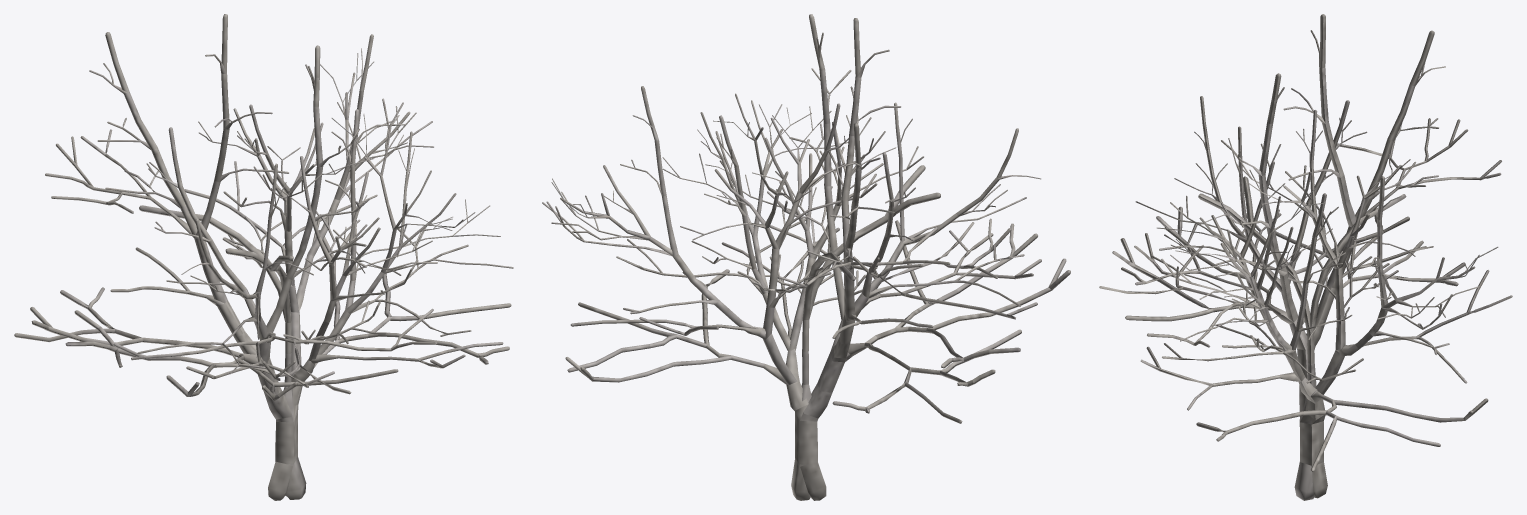
Rendered from deadtree1.obj.
3 views of the same model, side by side, from view 1: azimuth 30°, elevation 25°; view 2: azimuth 150°, elevation 25°; view 3: azimuth 270°, elevation 25° (orthographic). The views are drawn at different scales.
Visible parts, largest first — view 1: Walnut__; view 2: Walnut__; view 3: Walnut__.
Boxes of the visible parts, x1=… form: Walnut__: x1=14, y1=14, x2=513, y2=500; Walnut__: x1=542, y1=14, x2=1070, y2=500; Walnut__: x1=1099, y1=14, x2=1512, y2=500.
Bounding box in the file's own units: 1.35 × 1.42 × 1.17.
1 material, 1 textured.
